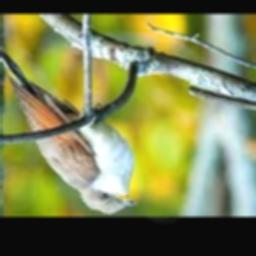Cuckoo: (0, 13, 136, 215)
